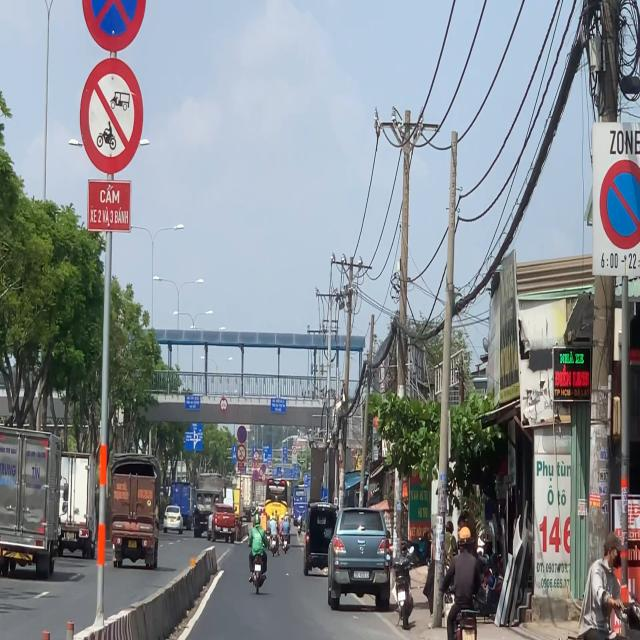Cam con lai: (79, 58, 144, 176)
Cam do: (595, 156, 640, 249)
Cam dung va do: (80, 0, 148, 55)
